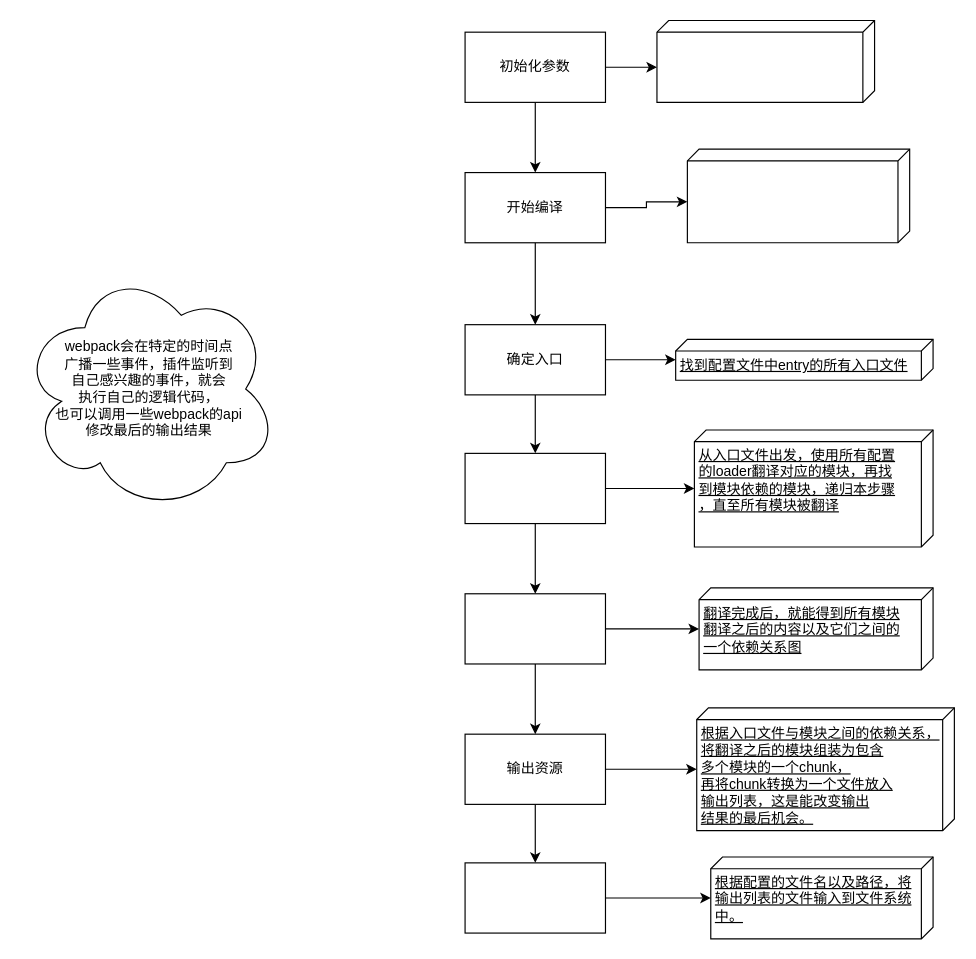
Image size: 976x959. Some labels were removed from this diagram. Each missing label, with the box of its shape:
写入文件系统: (464, 862, 605, 933)
完成翻译: (464, 593, 605, 664)
将配置文件中的参数以及shell 语句中的参数进行合并，形成 最终的参数: (656, 19, 875, 102)
翻译模块: (464, 452, 605, 524)
通过上一步的的参数实例化 complier对象，加载所有配置 的插件，并执行实例化complier 对象的run方法开始编译: (686, 148, 910, 243)
